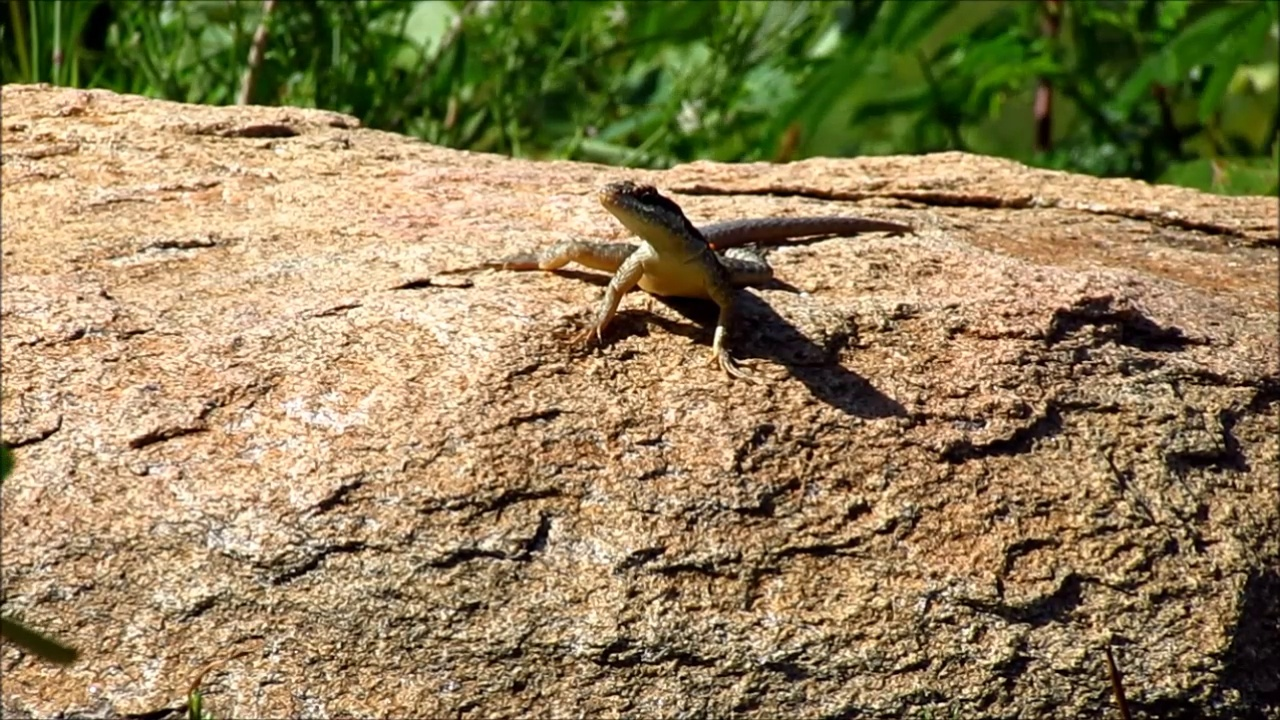body: (482, 213, 912, 379)
head: (597, 180, 678, 241)
